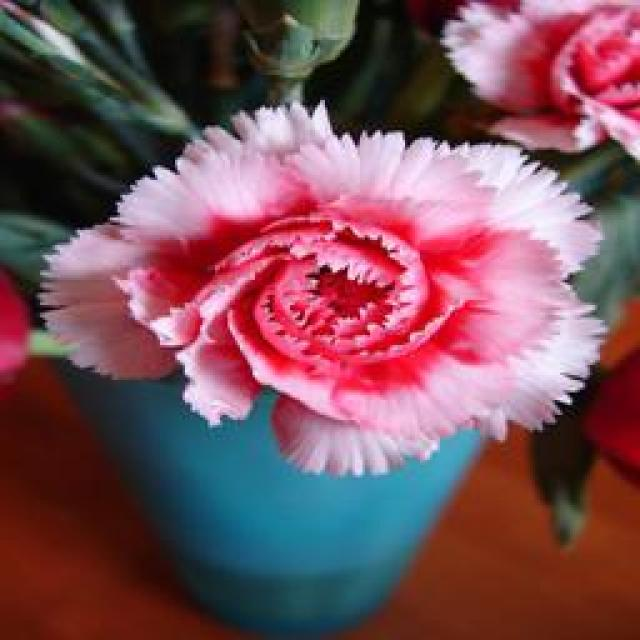carnation: (25, 94, 617, 461)
